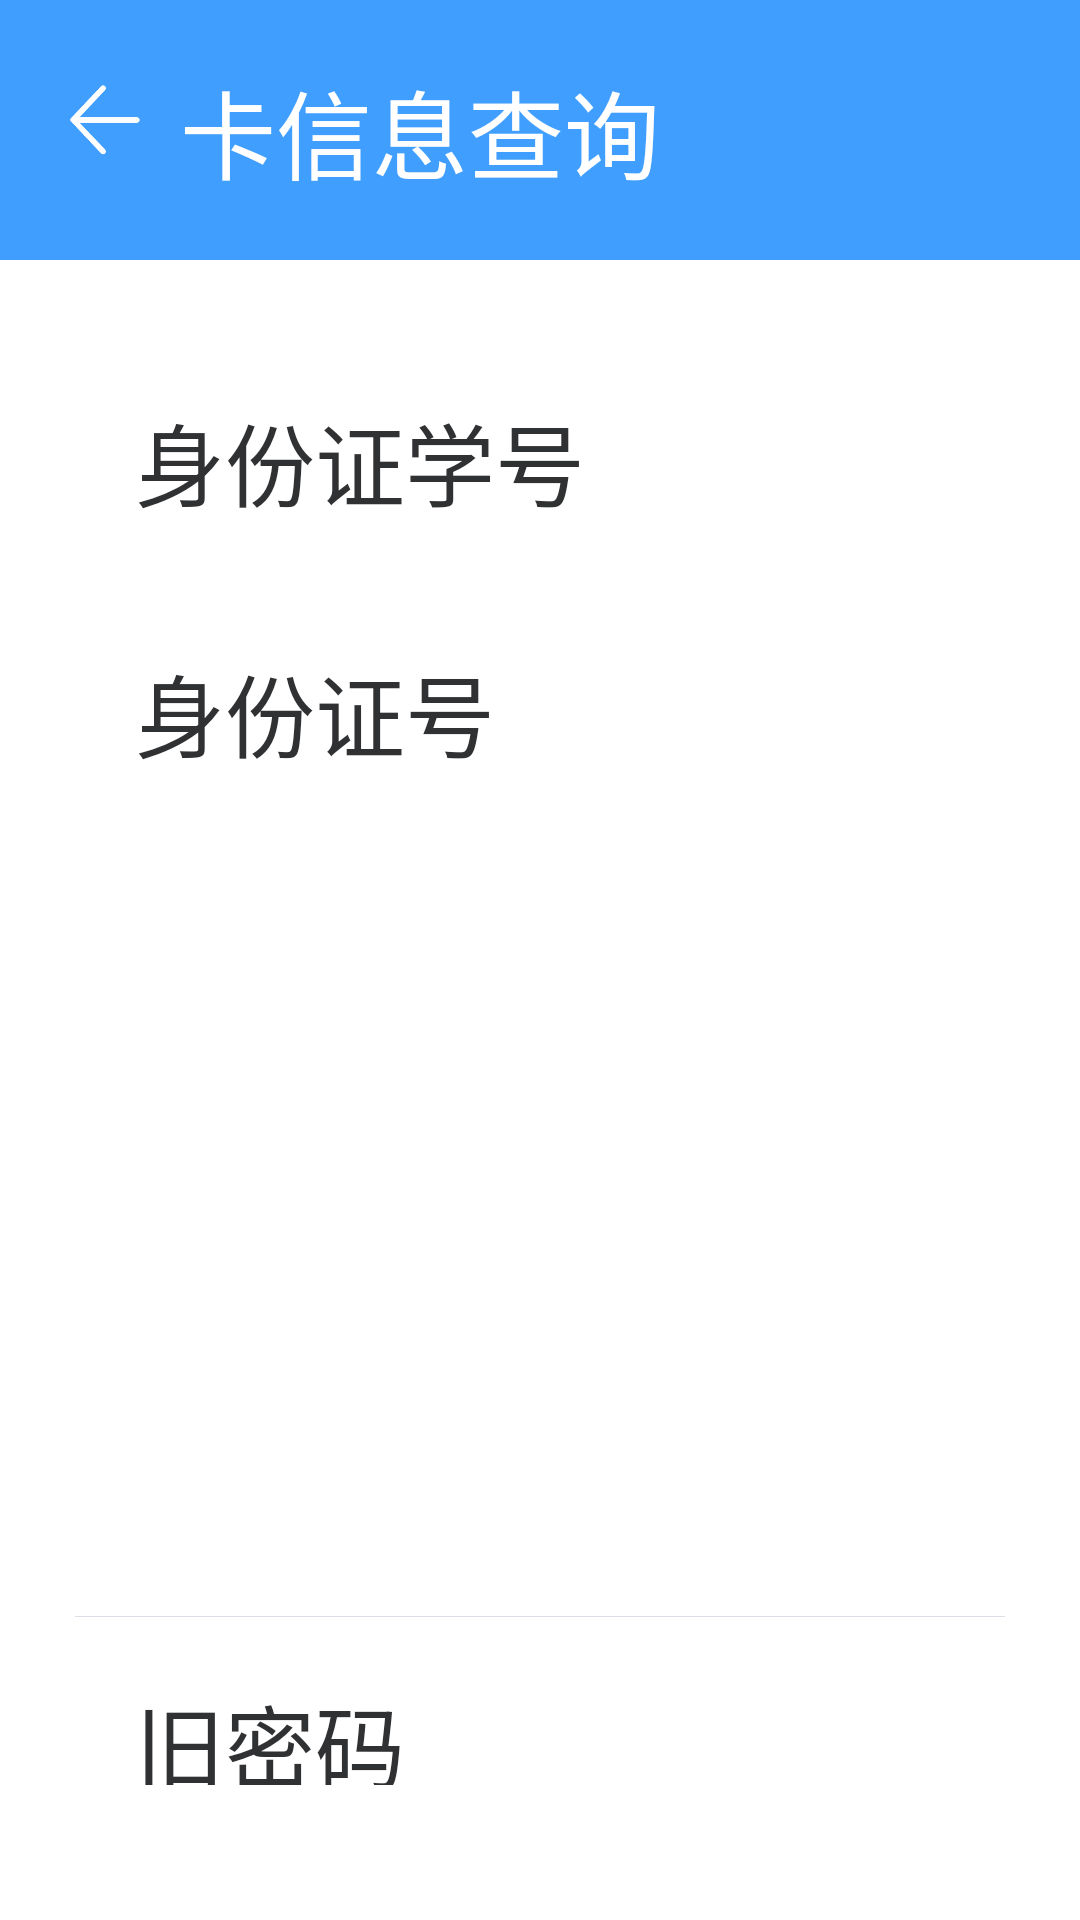

Point at icon controls on the screen. Image size 1080*1920, points as point (x, y).
direction left: point (105, 119)
